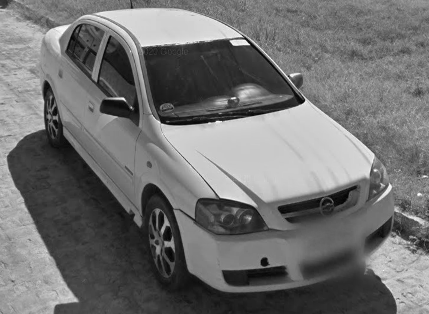car: (37, 6, 397, 301)
